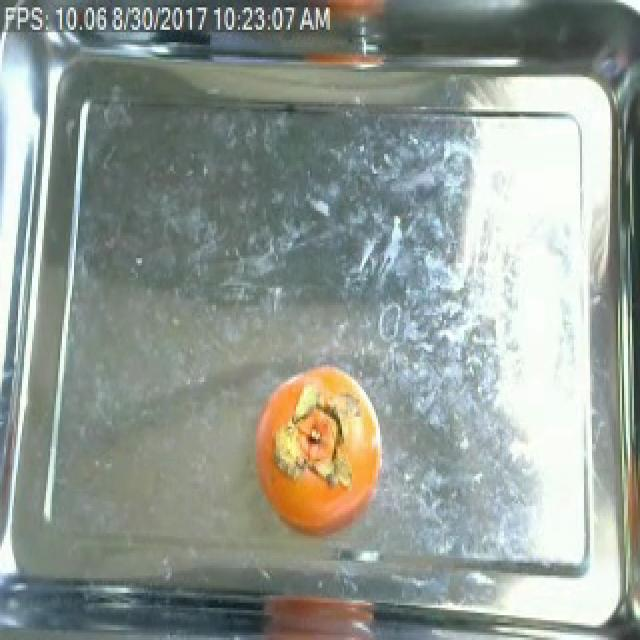Fruit: (248, 355, 388, 548), (244, 588, 384, 640)
